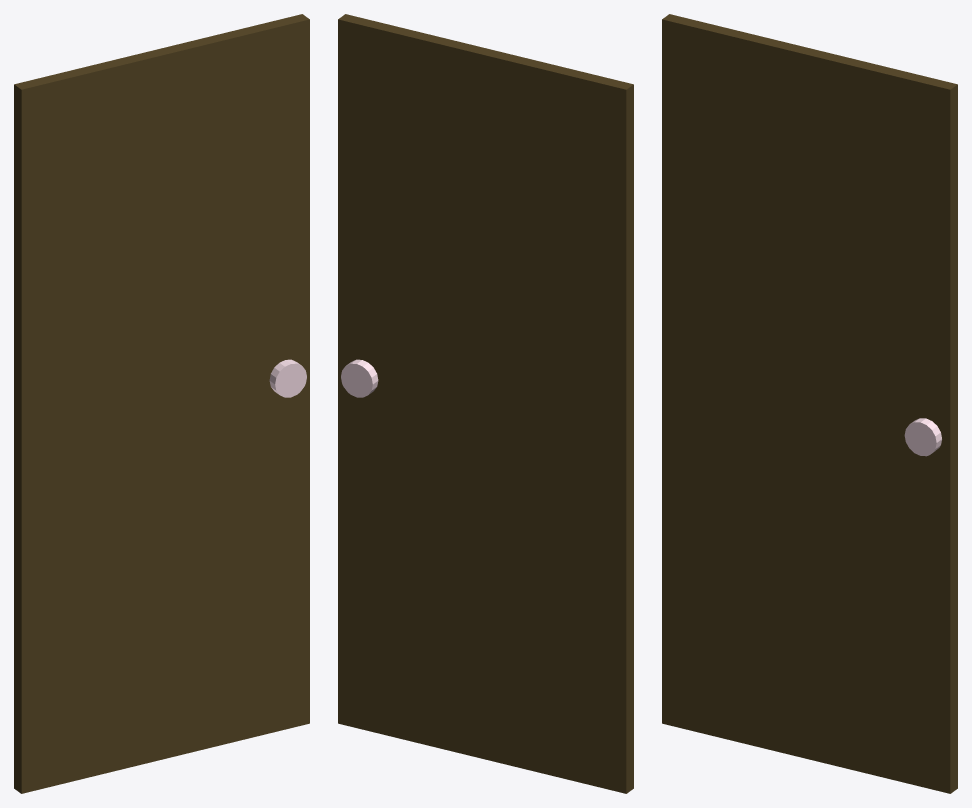
Rendered from kapı1.fbx.
3 renders of one model, left to right at view 1: azimuth 30°, elevation 25°; view 2: azimuth 150°, elevation 25°; view 3: azimuth 330°, elevation 25°, orthographic.
Visible parts, largest first — view 1: Cube, Silindir; view 2: Cube, Silindir; view 3: Cube, Silindir.
Boxes of the visible parts, left/top/right/bottom form: Cube: left=14, top=14, right=309, bottom=793; Silindir: left=269, top=359, right=306, bottom=397; Cube: left=338, top=14, right=633, bottom=793; Silindir: left=341, top=359, right=378, bottom=397; Cube: left=662, top=14, right=957, bottom=793; Silindir: left=904, top=418, right=941, bottom=456.
Size of the model in its own units: 180 by 420 by 20.
